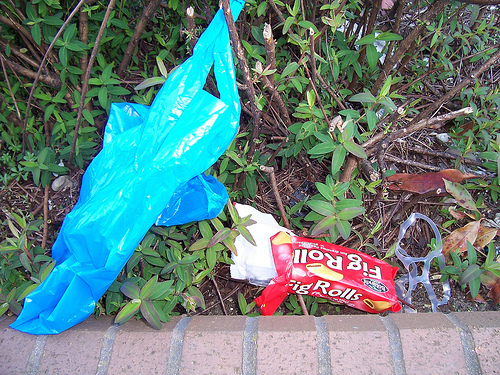litter: (6, 0, 245, 336), (230, 202, 401, 314), (398, 210, 452, 312)
